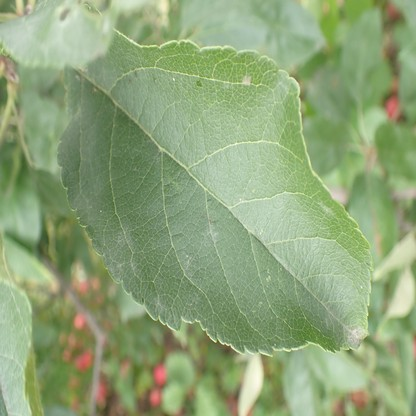powder: (65, 107, 99, 218), (111, 229, 132, 275), (345, 324, 367, 346), (204, 222, 218, 244), (151, 296, 161, 314), (187, 253, 193, 265), (242, 76, 250, 84)
